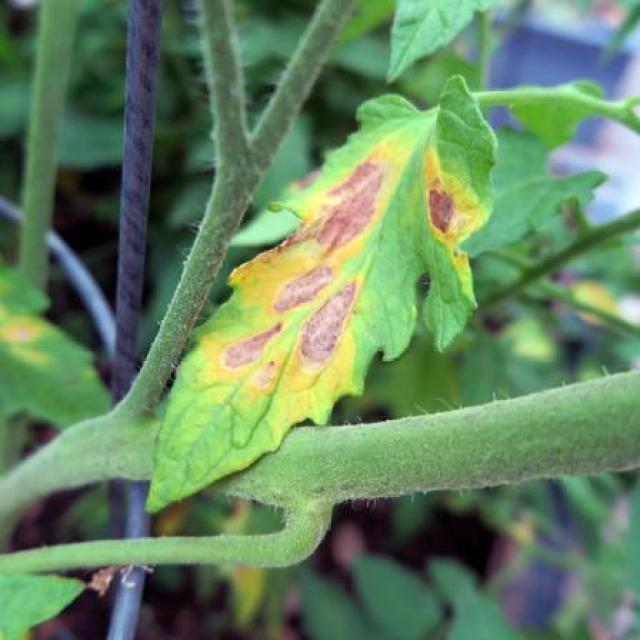Early Blight: (140, 74, 500, 514)
